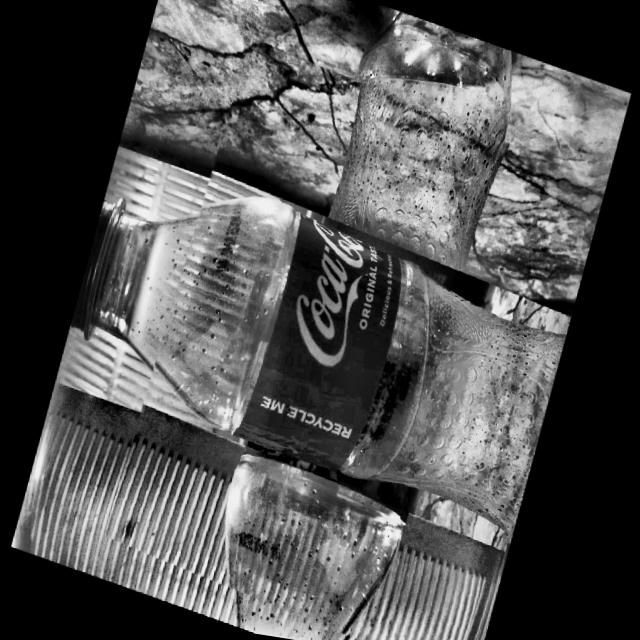Plastic-Bottle: (92, 30, 620, 640)
